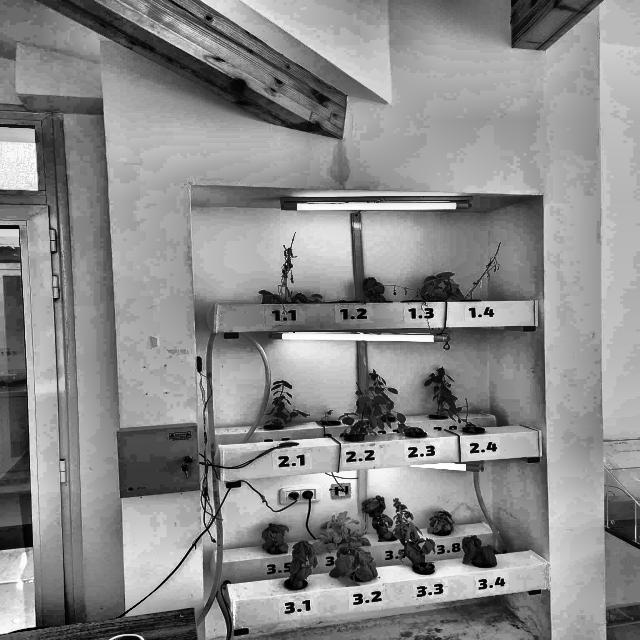plants: (263, 232, 310, 302), (392, 498, 435, 572), (368, 381, 428, 433), (459, 240, 503, 301), (314, 514, 370, 553), (344, 383, 379, 438), (330, 543, 378, 581), (425, 364, 455, 418), (369, 368, 397, 419), (347, 286, 429, 303), (362, 494, 390, 540), (289, 541, 317, 586), (463, 534, 499, 568), (421, 273, 464, 301), (268, 380, 294, 426), (261, 522, 292, 553), (362, 278, 393, 304), (456, 398, 479, 431), (428, 511, 453, 535), (315, 404, 341, 425)
